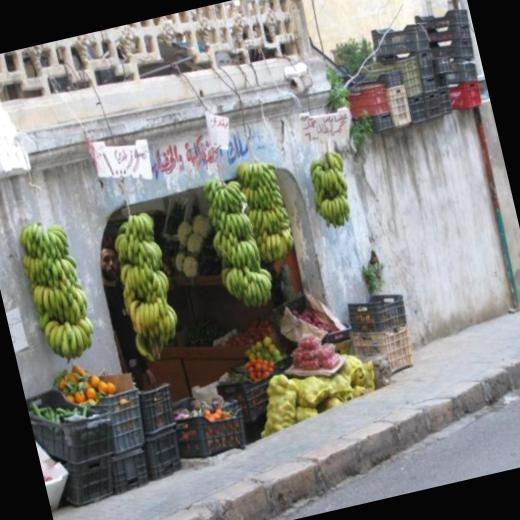Banana: (94, 208, 189, 374), (14, 215, 100, 364), (198, 171, 278, 314), (232, 156, 296, 264), (302, 148, 356, 232)
